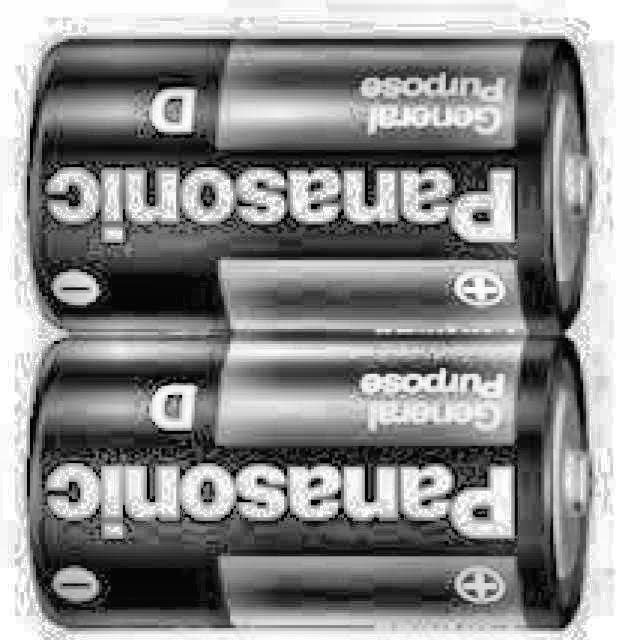battery: (30, 42, 592, 631), (29, 334, 592, 631), (30, 42, 592, 339)
